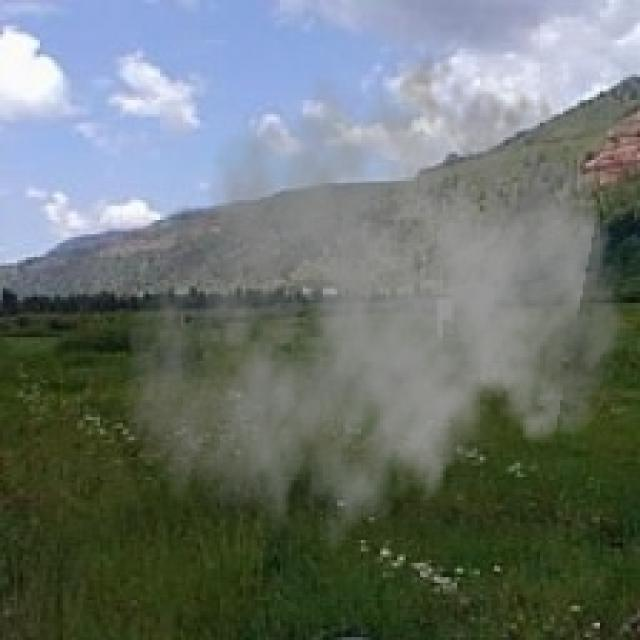smoke: (120, 32, 634, 577)
